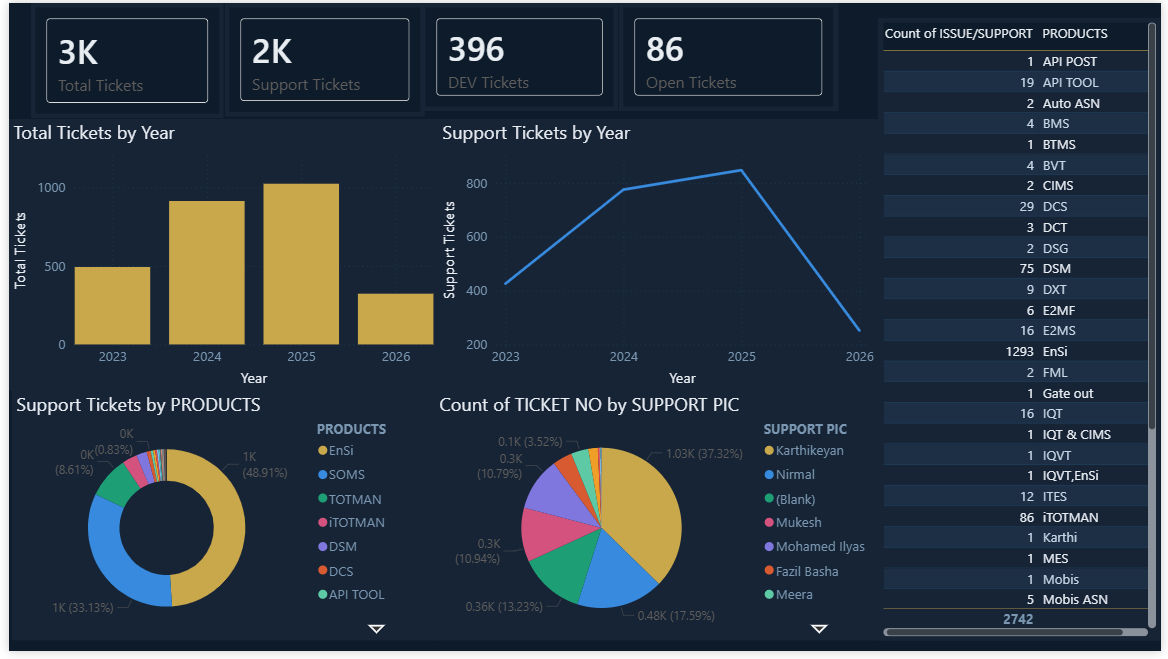

The page's visual inventory and layout, read from the dashboard file:
{"tool":"powerbi","page":{"name":"Page 1","canvas":[1280,720],"ordinal":0},"visuals":[{"type":"cardVisual","fields":{"Data":["DateTable.Support Tickets"]},"box":[239.7,0,222.2,126.2],"z":0},{"type":"cardVisual","fields":{"Data":["DateTable.DEV Tickets"]},"box":[458,0,219.3,120.3],"z":1000},{"type":"cardVisual","fields":{"Data":["DateTable.Open Tickets"]},"box":[677.4,0,243.6,120.3],"z":2000},{"type":"cardVisual","fields":{"Data":["Sheet1.Total Tickets"]},"box":[24.3,0,214.5,128.1],"z":3000},{"type":"columnChart","fields":{"Category":["DateTable.Year"],"Y":["Sheet1.Total Tickets"]},"box":[0,128.4,476.6,302.5],"z":4000},{"type":"lineChart","fields":{"Category":["DateTable.Year"],"Y":["DateTable.Support Tickets"]},"box":[476.6,128.4,489.2,302.5],"z":5000},{"type":"donutChart","fields":{"Category":["Sheet1.PRODUCTS"],"Y":["DateTable.Support Tickets"]},"box":[2.9,430.9,473.7,277.2],"z":6000},{"type":"pieChart","fields":{"Category":["Sheet1.SUPPORT PIC"],"Y":["CountNonNull(Sheet1.TICKET NO)"]},"box":[473.7,430.9,492.2,277.2],"z":7000},{"type":"tableEx","fields":{"Values":["Sheet1.ISSUE/SUPPORT","Sheet1.PRODUCTS"]},"box":[965.6,16.5,314.4,691.9],"z":8000}]}

Visuals, with their boxes in screenshot pixels (x1, y1, x2, y2), scaled from the page's 1280x720 canvas onto the 1168x659 screenshot:
cardVisual - DateTable.Support Tickets: [219,0,421,116]
cardVisual - DateTable.DEV Tickets: [418,0,618,110]
cardVisual - DateTable.Open Tickets: [618,0,840,110]
cardVisual - Sheet1.Total Tickets: [22,0,218,117]
columnChart - DateTable.Year x Sheet1.Total Tickets: [0,118,435,394]
lineChart - DateTable.Year x DateTable.Support Tickets: [435,118,881,394]
donutChart - Sheet1.PRODUCTS x DateTable.Support Tickets: [3,394,435,648]
pieChart - Sheet1.SUPPORT PIC x CountNonNull(Sheet1.TICKET NO): [432,394,881,648]
tableEx - Sheet1.ISSUE/SUPPORT x Sheet1.PRODUCTS: [881,15,1167,648]
